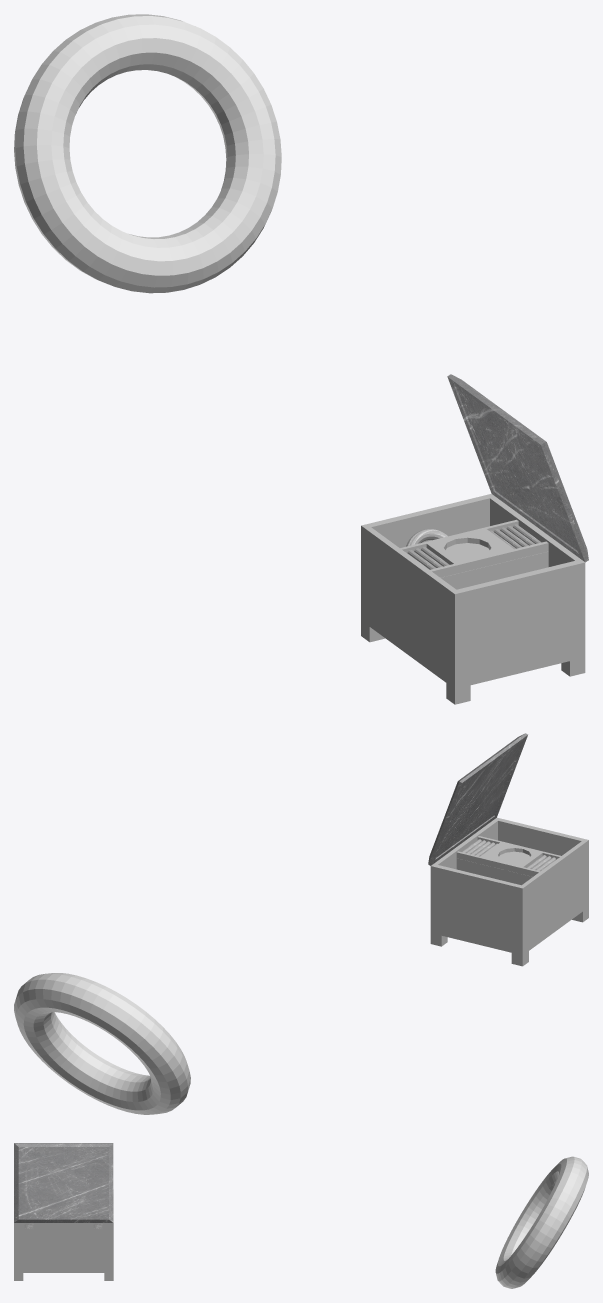
File: Caixa de msc (1).fbx
3 views of the same model, one above another, from view 1: azimuth 30°, elevation 25°; view 2: azimuth 150°, elevation 25°; view 3: azimuth 270°, elevation 25° (orthographic). The views are drawn at different scales.
Visible parts, largest first — view 1: Torus.001, Cube, Cube.002, Cube.003; view 2: Cube, Torus.001, Cube.002, Cube.003; view 3: Cube.002, Torus.001, Cube.
Part boxes in pixels (<box>): Torus.001: <box>14,14,281,293</box>; Cube: <box>361,494,585,704</box>; Cube.002: <box>447,374,588,562</box>; Cube.003: <box>400,519,548,577</box>; Cube: <box>430,817,588,966</box>; Torus.001: <box>14,973,190,1114</box>; Cube.002: <box>428,733,527,865</box>; Cube.003: <box>456,836,560,876</box>; Cube.002: <box>14,1143,113,1222</box>; Torus.001: <box>495,1156,588,1288</box>; Cube: <box>14,1189,113,1280</box>.
Size of the model in its own units: 831 by 641 by 2496.
